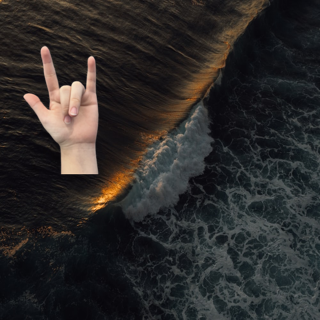ILY: (16, 42, 104, 149)
